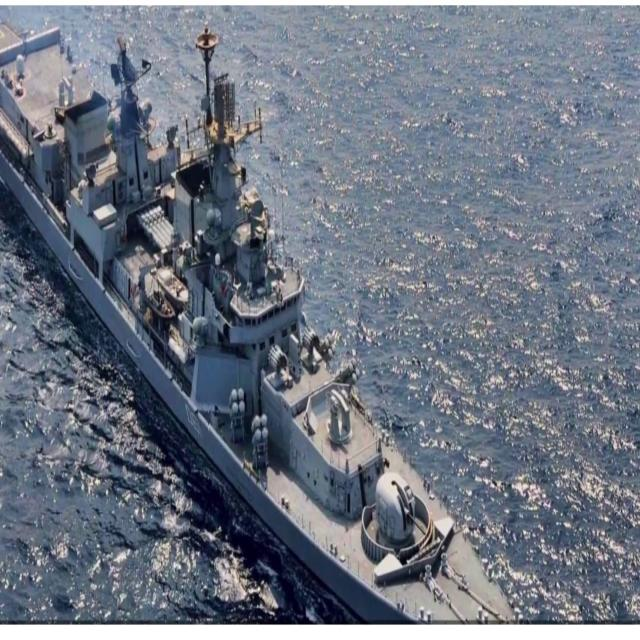OCR: (182, 400, 209, 448)
